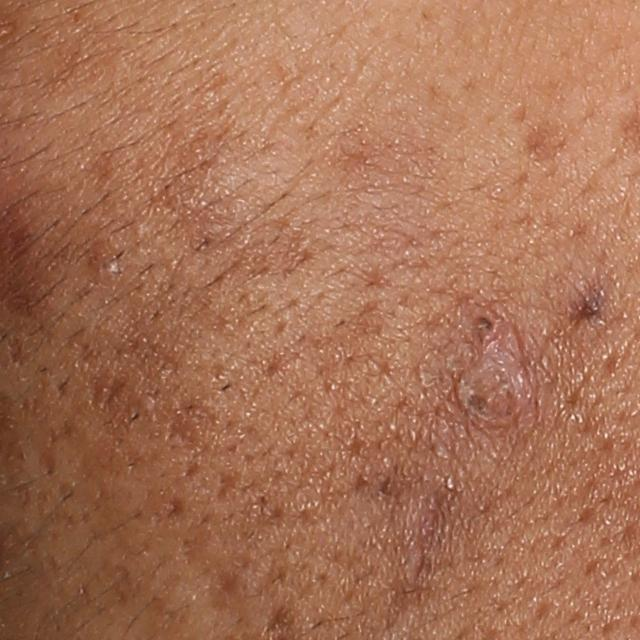atrophic_scar: (401, 491, 452, 592), (164, 397, 218, 449), (204, 561, 252, 614), (86, 372, 130, 409), (267, 603, 292, 633), (166, 496, 186, 524), (179, 461, 198, 480)
comedo: (93, 256, 122, 279)
nevus: (574, 279, 616, 322)
